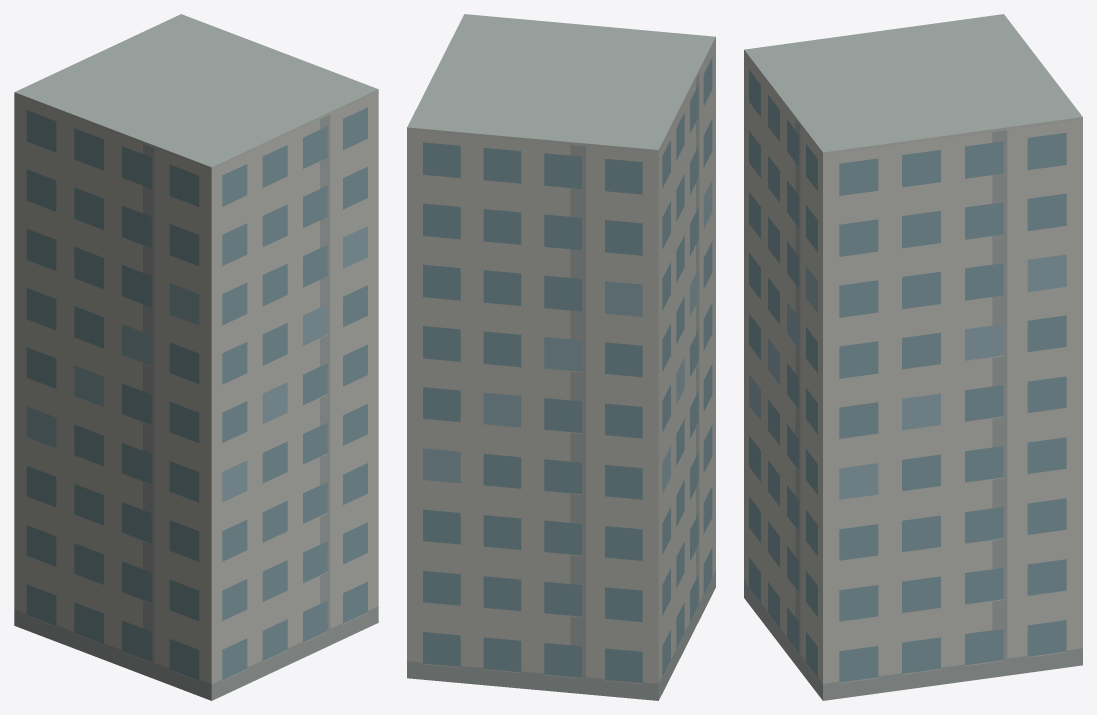
File: residential-e0f377e3-c685-4cc4-baf3-b21d0062e7e4.glb
3 views of the same model, side by side, from view 1: azimuth 30°, elevation 25°; view 2: azimuth 150°, elevation 25°; view 3: azimuth 270°, elevation 25° (orthographic). The views are drawn at different scales.
Parts seen in each view (by area): view 1: residential-e0f377e3-c685-4cc4-baf3-b21d0062e7e4.tmp; view 2: residential-e0f377e3-c685-4cc4-baf3-b21d0062e7e4.tmp; view 3: residential-e0f377e3-c685-4cc4-baf3-b21d0062e7e4.tmp.
Boxes of the visible parts, x1,y1,x2,y2 form: residential-e0f377e3-c685-4cc4-baf3-b21d0062e7e4.tmp: [14, 14, 378, 700]; residential-e0f377e3-c685-4cc4-baf3-b21d0062e7e4.tmp: [407, 14, 715, 700]; residential-e0f377e3-c685-4cc4-baf3-b21d0062e7e4.tmp: [744, 14, 1082, 700].
Size of the model in its own units: 24.93 by 46 by 25.76.
